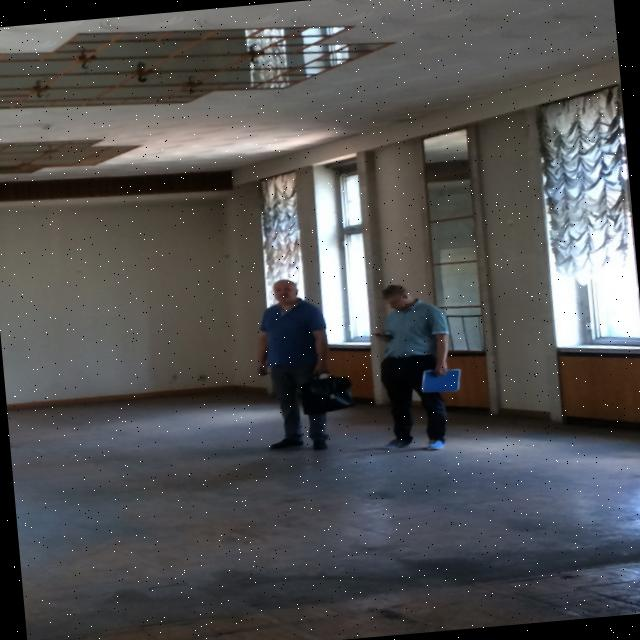NoHelmet: (380, 281, 415, 315), (271, 278, 303, 306)
